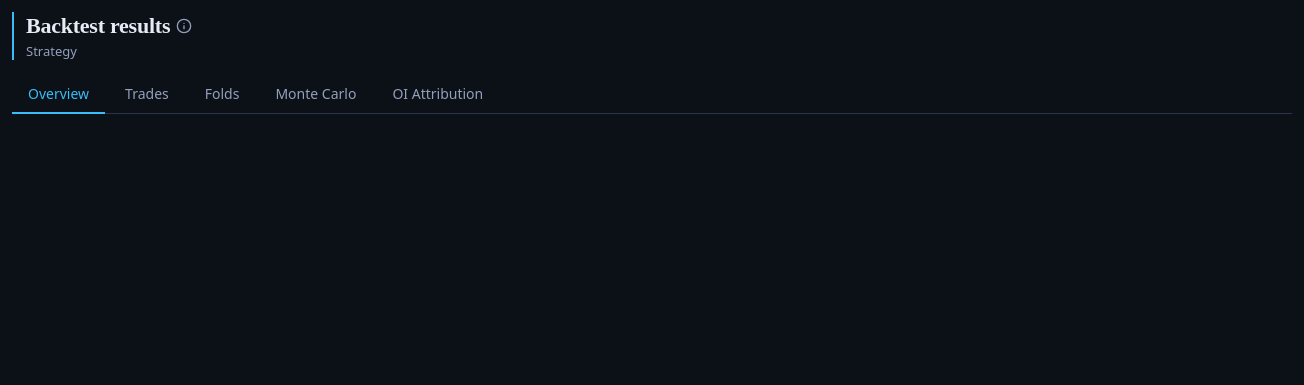
it: BacktestResultsPage › surfaces a folds fetch error instead of a false-empty "no folds" (FE-03)
Click the tab "Folds" at (222, 95), box [189, 76, 255, 114]
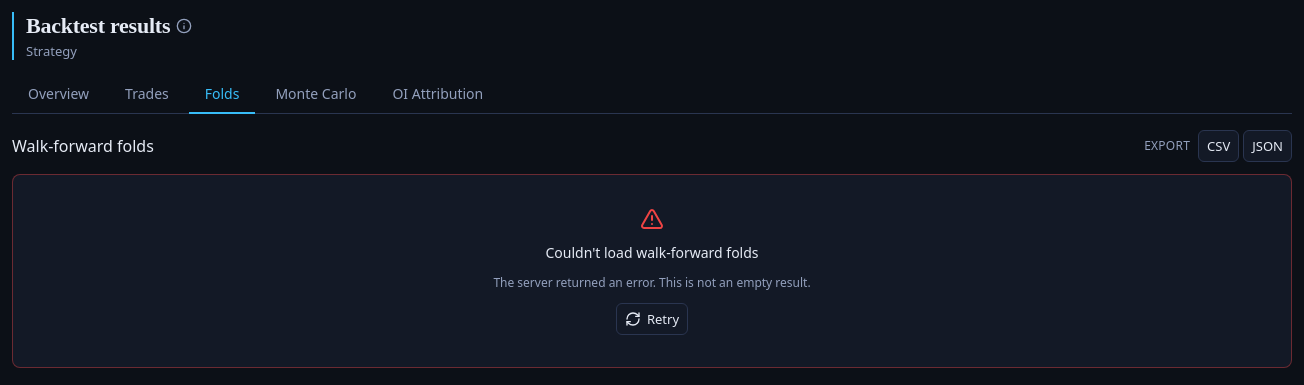
Check: the message with test id "qs-error" is shown, box [12, 174, 1292, 368]
Check: the text "Couldn't load walk-forward folds" is shown, box [546, 243, 759, 263]
